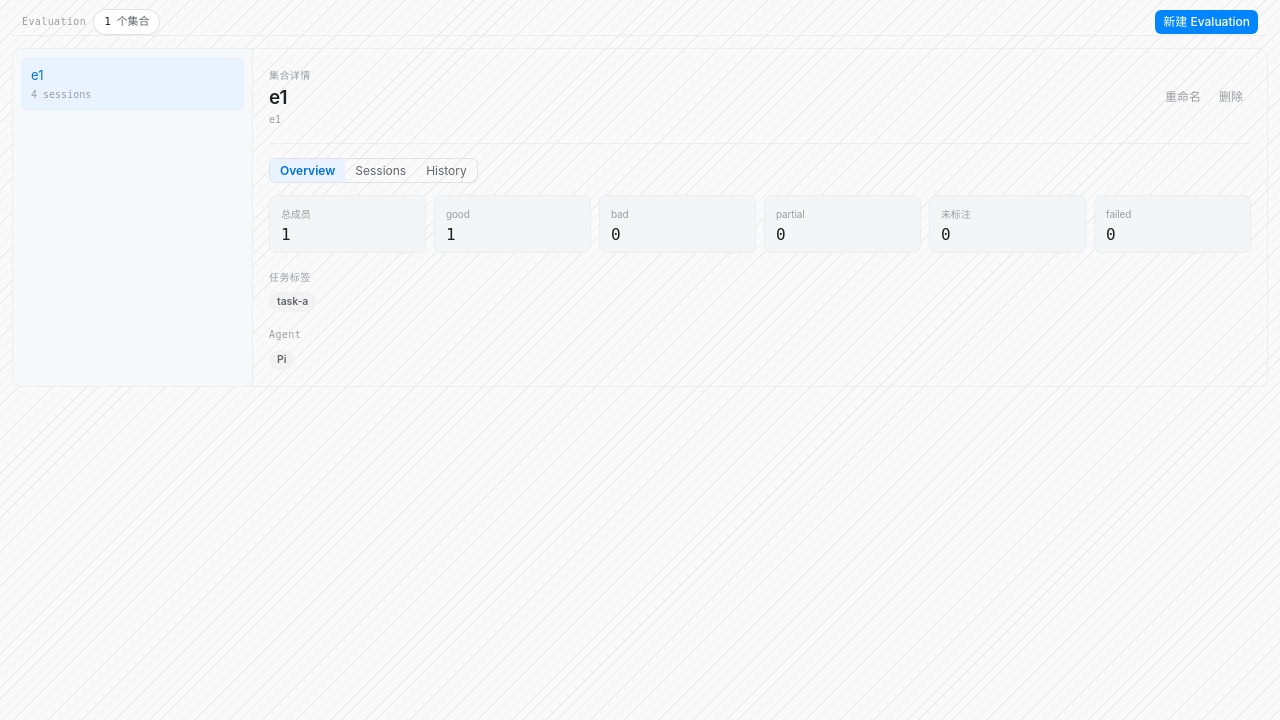
EvaluationView › addSession error is surfaced inline and form remains open
Click the button "Sessions". click: (381, 170)
box: [345,158,416,182]
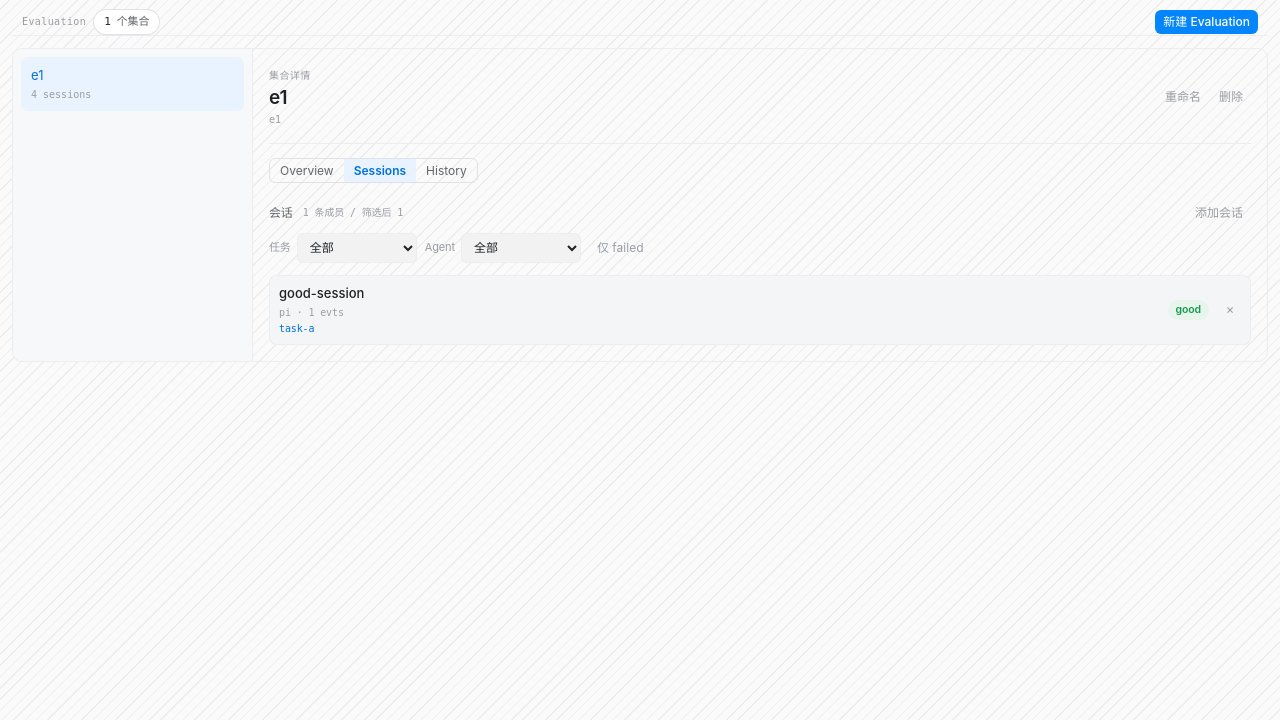
Click the button "添加会话". click: (1219, 213)
box: [1187,201,1251,225]
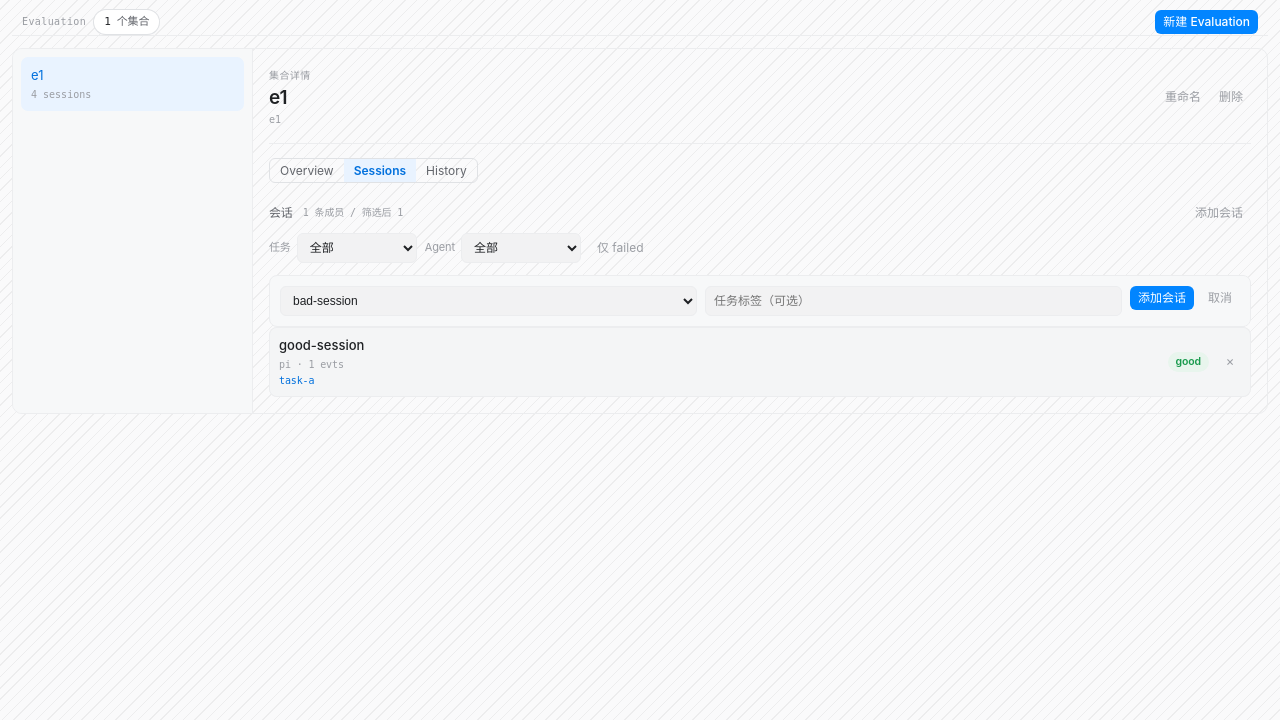
Click the 2nd button "添加会话". click: (1162, 298)
box: [1130,286,1194,310]
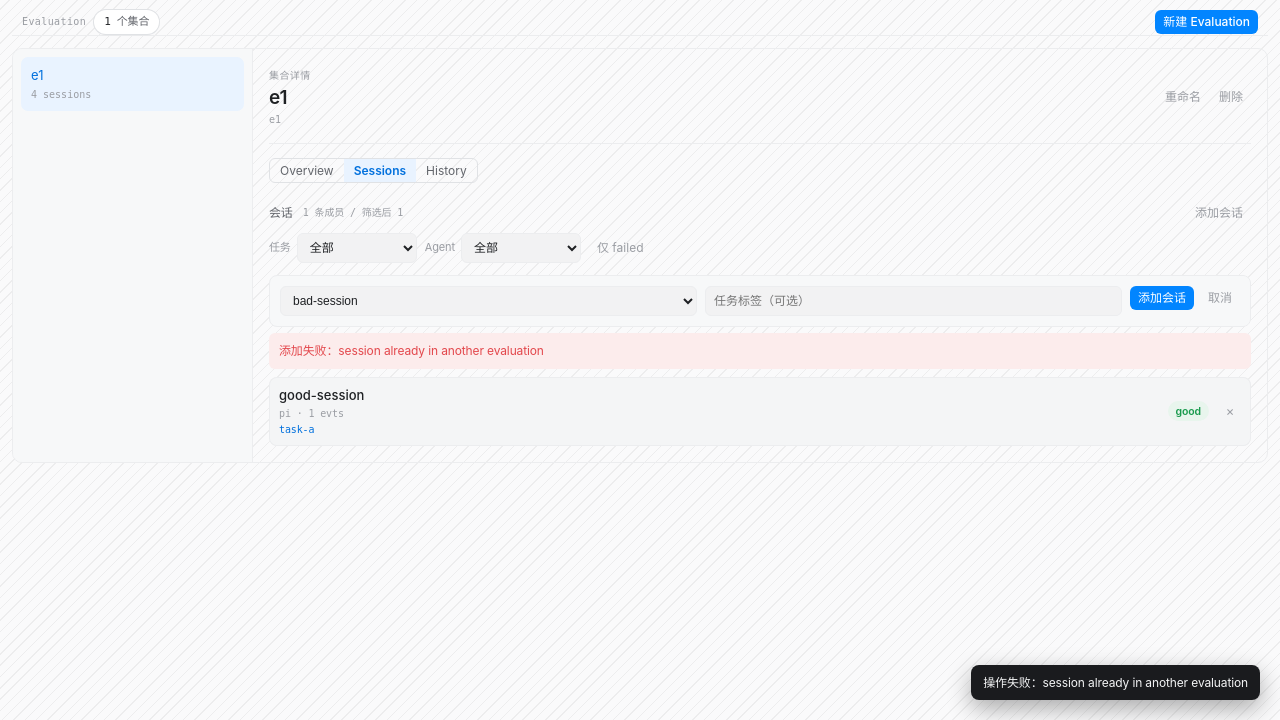
Expected: the field with placeholder "任务标签（可选）" is shown, [705,286,1122,316]
Expected: the message "添加失败：session already in another evaluation" is shown, [269,333,1251,368]
